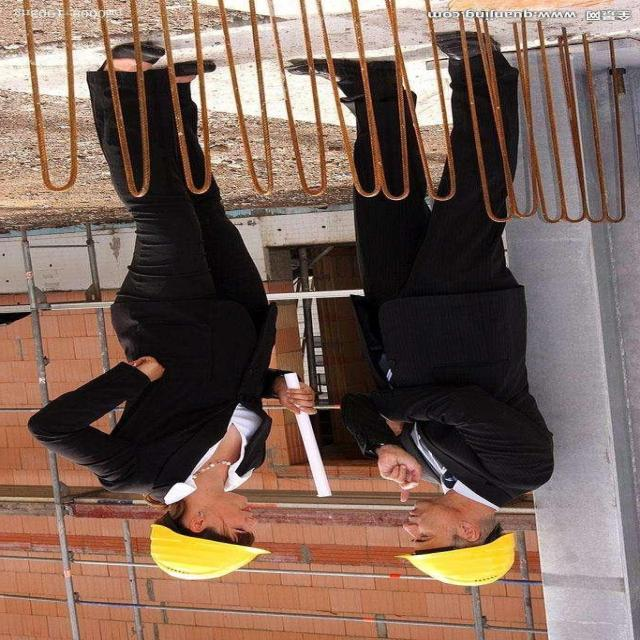helmet: (392, 534, 530, 596), (141, 523, 279, 583)
